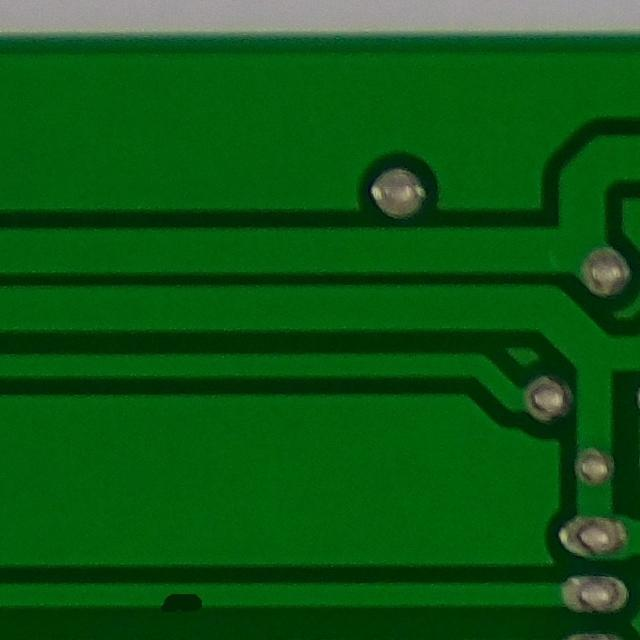mouse_bite: (143, 573, 222, 621)
